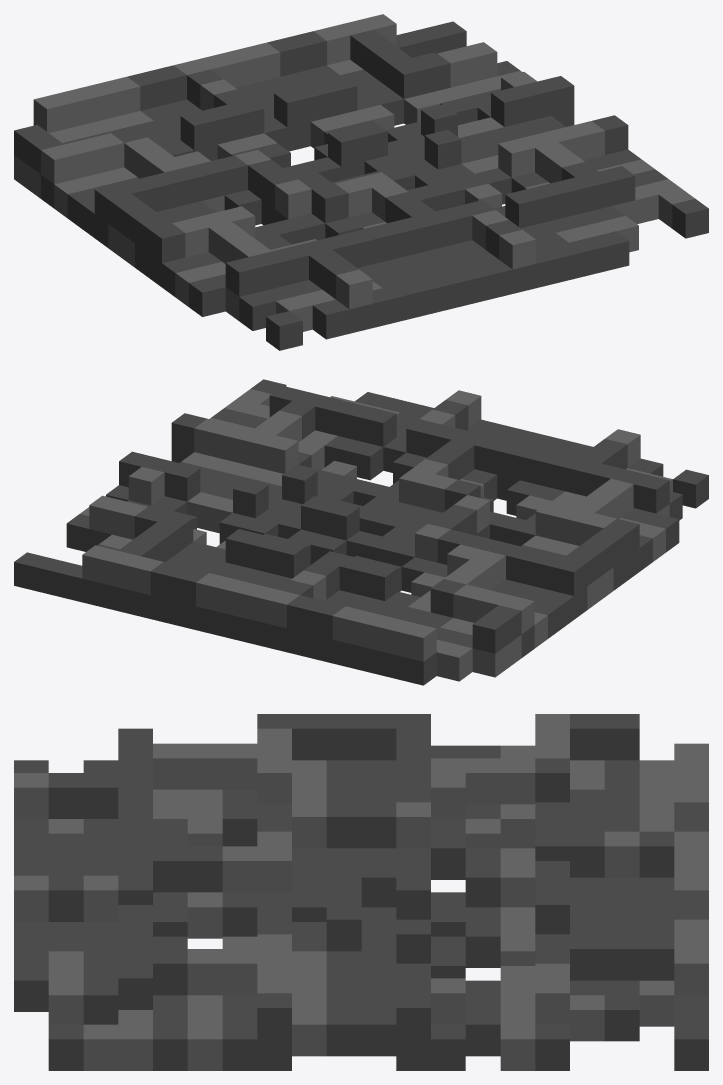
The model's file is Medieval Assets-156-Dungeon - Floor Tile - Variant2.obj.
The picture shows the model from 3 angles, top to bottom: view 1: azimuth 30°, elevation 25°; view 2: azimuth 150°, elevation 25°; view 3: azimuth 270°, elevation 25°; orthographic projection. The views are drawn at different scales.
Parts seen in each view (by area): view 1: Dungeon - Floor Tile - Variant2; view 2: Dungeon - Floor Tile - Variant2; view 3: Dungeon - Floor Tile - Variant2.
Part boxes in pixels (<box>): Dungeon - Floor Tile - Variant2: <box>14,14,708,350</box>; Dungeon - Floor Tile - Variant2: <box>14,379,708,685</box>; Dungeon - Floor Tile - Variant2: <box>14,714,708,1070</box>.
Bounding box in the file's own units: 2 × 0.2 × 2.
Materials: 1 (1 with a texture image).
